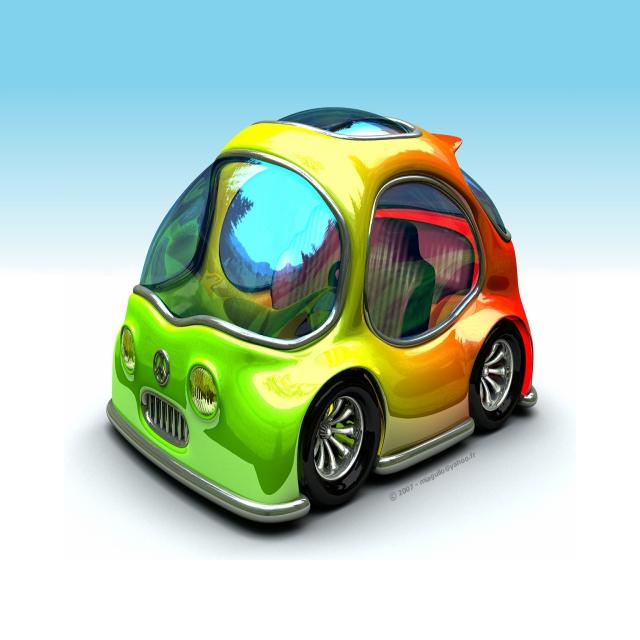Car: (91, 107, 544, 527)
